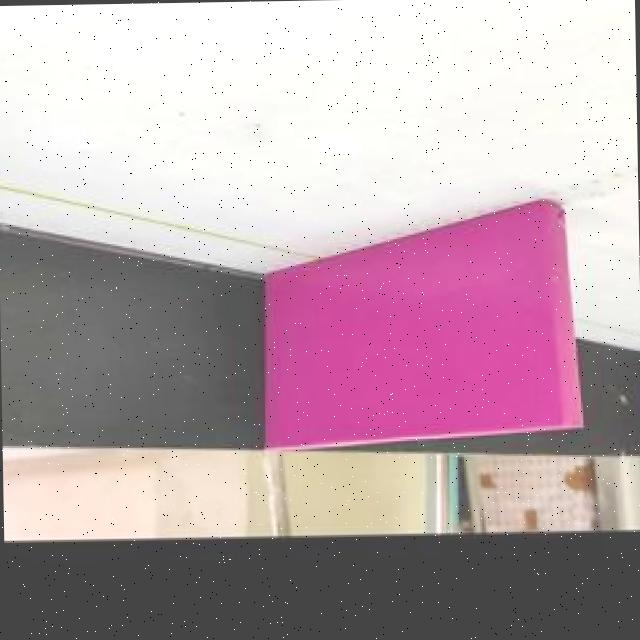xparking: (264, 222, 582, 431)
